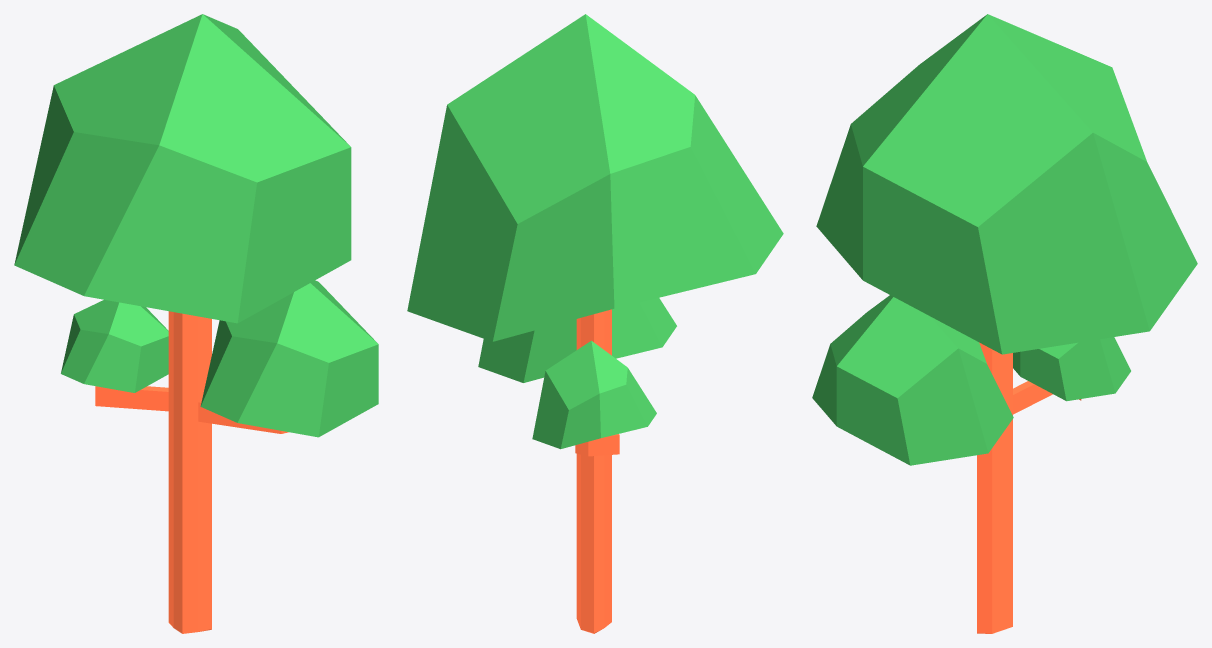
Rendered from Tree 1.fbx.
3 renders of one model, left to right at view 1: azimuth 30°, elevation 25°; view 2: azimuth 150°, elevation 25°; view 3: azimuth 270°, elevation 25°, orthographic.
Visible parts, largest first — view 1: Tree 1.092; view 2: Tree 1.092; view 3: Tree 1.092.
Part boxes in pixels (left/top/right/bottom): Tree 1.092: left=14, top=14, right=378, bottom=633; Tree 1.092: left=407, top=14, right=783, bottom=633; Tree 1.092: left=812, top=14, right=1197, bottom=633.
Size of the model in its own units: 33.32 by 59.58 by 33.72.
